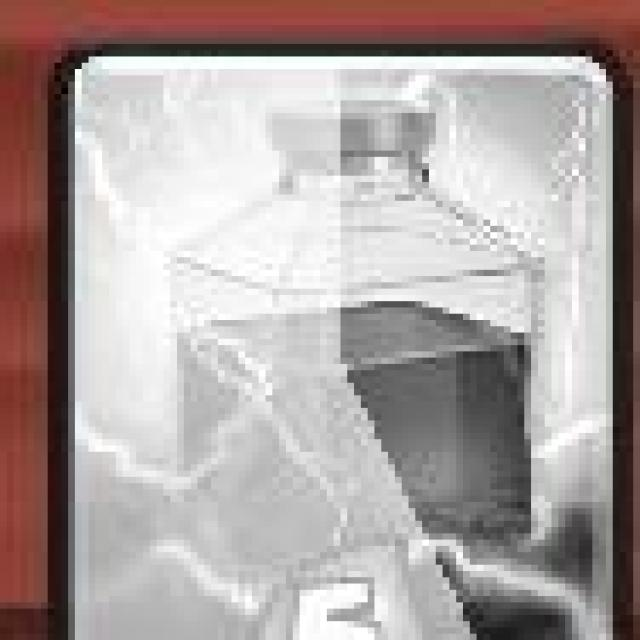Lightning: (46, 41, 626, 640)
